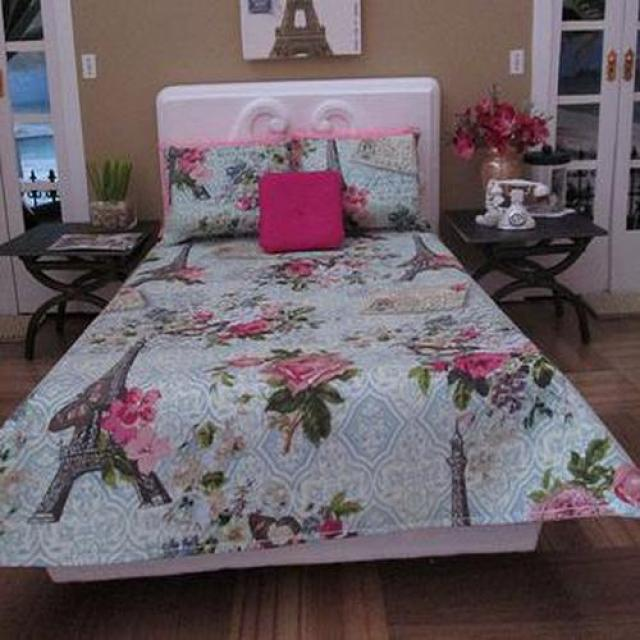bed: (0, 77, 640, 588)
